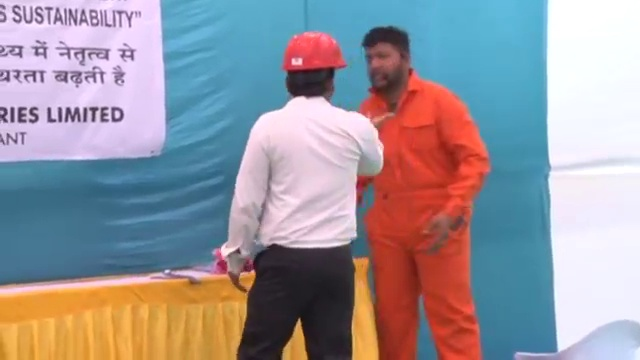helmet: (278, 29, 349, 70)
helmet_off: (361, 26, 411, 90)
helmet_on: (278, 30, 350, 105)
person: (226, 30, 384, 360), (358, 27, 489, 360)
